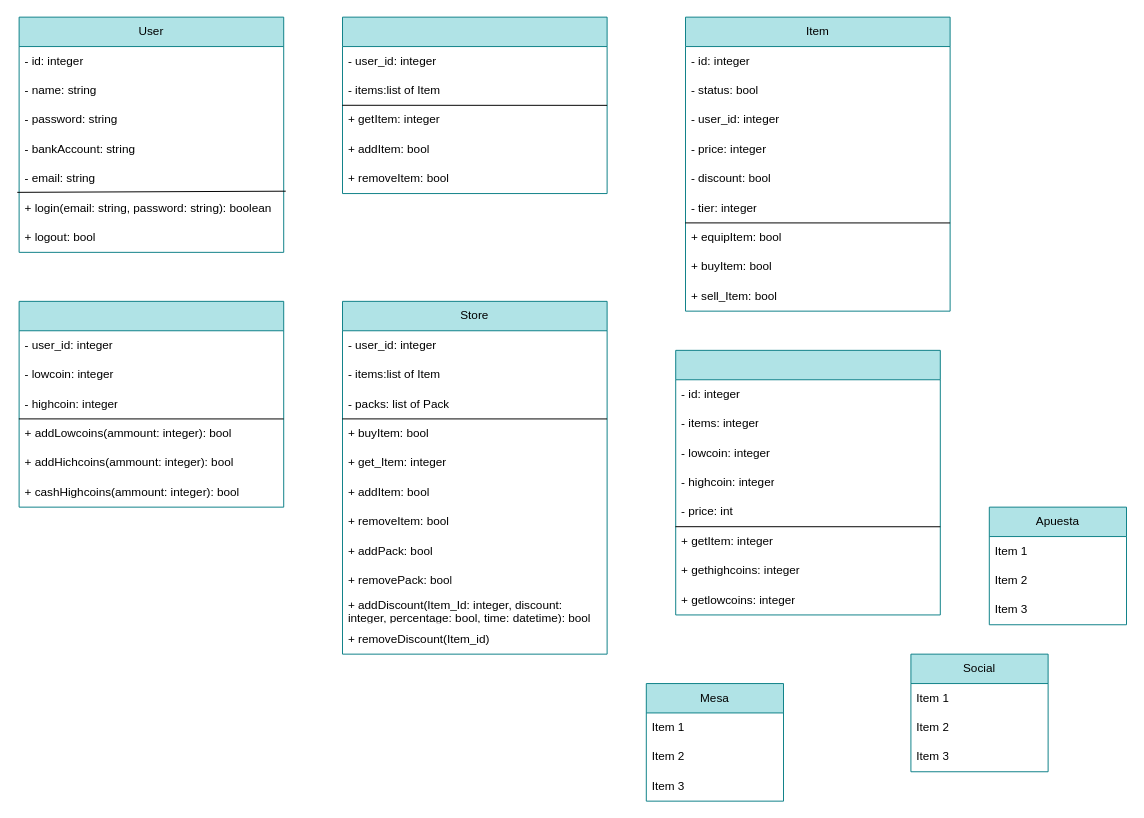
The diagram is 1144 pixels wide and 818 high, and some of its shapes have lost their labels. The shapes that lost their labels are listed below. From the top down, each one's box as (x1, y1, x2, y2) in pixels, then its label:
(342, 16, 607, 194): Inventory
(18, 300, 284, 507): Bank
(675, 349, 940, 615): Pack
